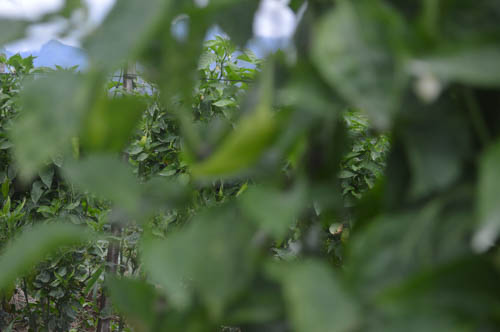ChiliPepper: (182, 113, 281, 185), (87, 94, 143, 161)
